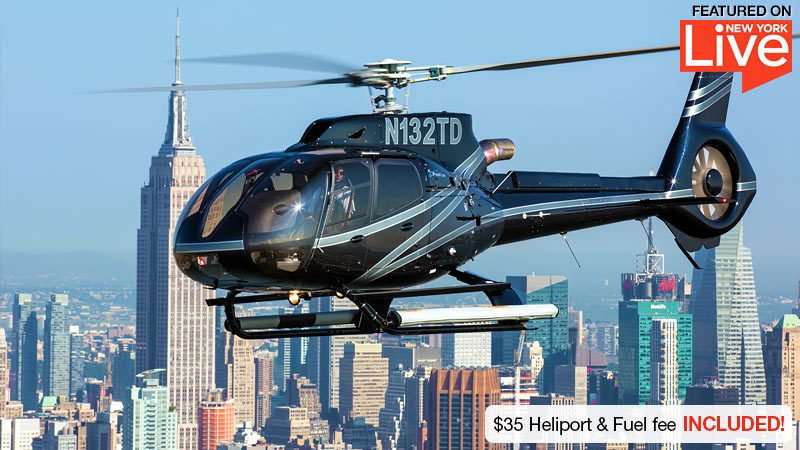Helicopter: (145, 76, 765, 335)
